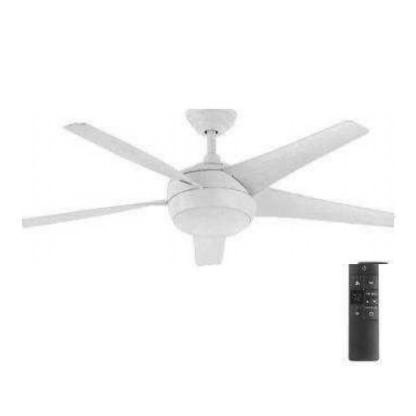ceiling-fan: (22, 109, 395, 265)
